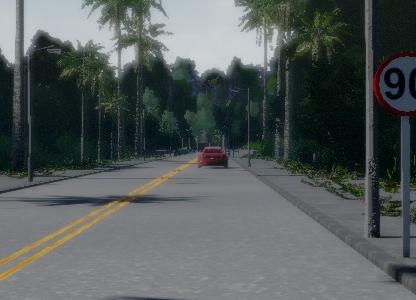Speed_90: (373, 47, 416, 119)
